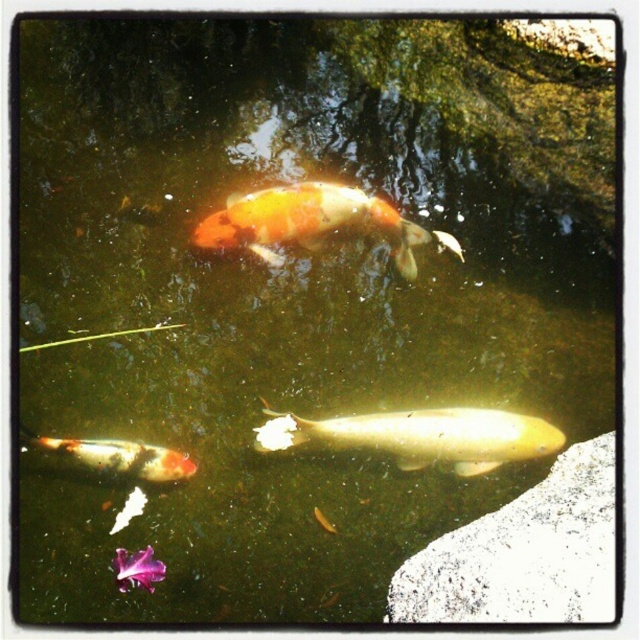Goldfish: (194, 182, 432, 283), (253, 408, 566, 476), (19, 424, 199, 483)
